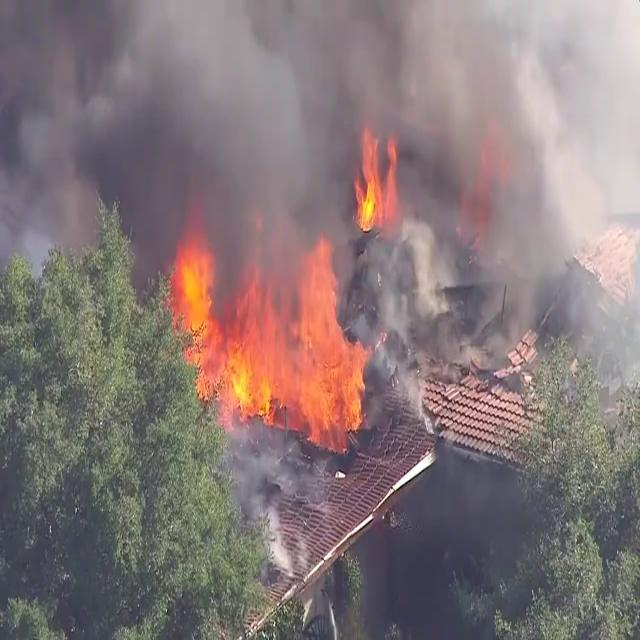Fire: (168, 236, 374, 434), (353, 123, 401, 236)
Smoke: (4, 0, 629, 371)
